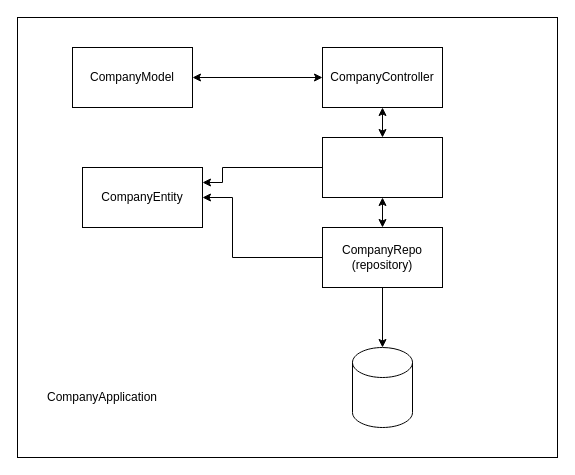
Image size: 575x475. Some labels were removed from this diagram. Each missing label, with the box of its shape:
companyDB: (352, 346, 412, 428)
CompanyService: (322, 136, 442, 198)
